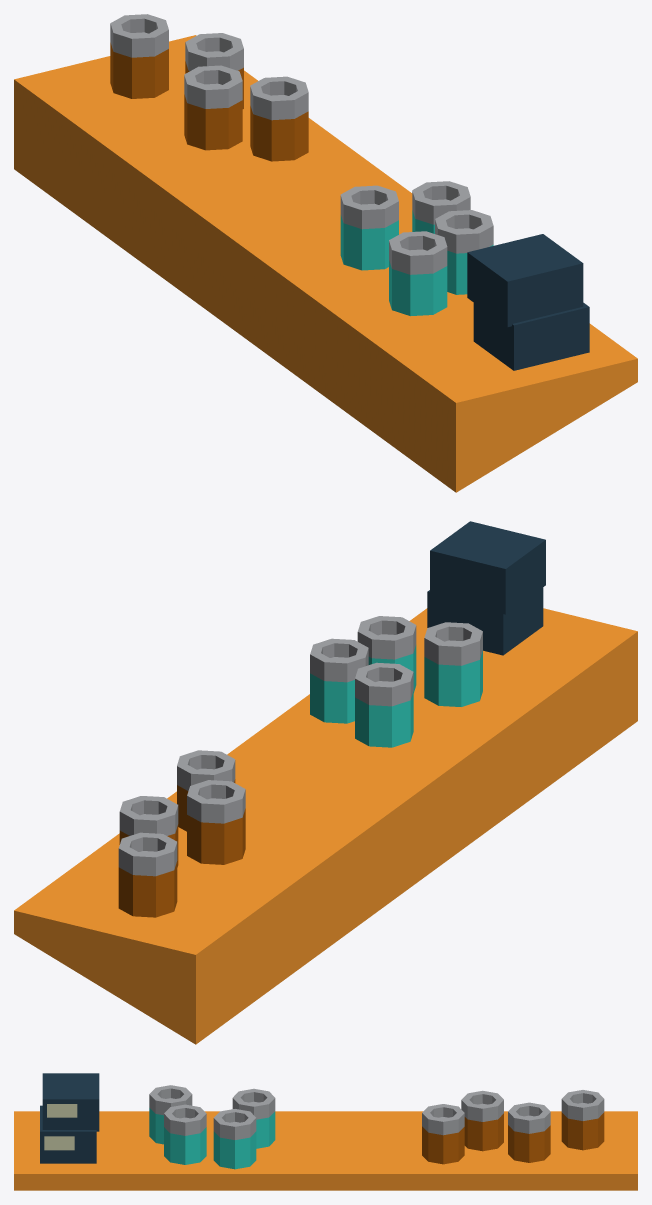
Rendered from Stand2.fbx.
The picture shows the model from 3 angles, top to bottom: view 1: azimuth 30°, elevation 25°; view 2: azimuth 150°, elevation 25°; view 3: azimuth 270°, elevation 25°; orthographic projection. The views are drawn at different scales.
Visible parts, largest first — view 1: Cube.008_157, Cube.036_179, Cube.035_178, Circle.044_167, Circle.045_168, Circle.037_160, Circle.047_170, Circle.038_161, Circle.036_159, Circle.039_162, Circle.046_169; view 2: Cube.008_157, Cube.036_179, Circle.047_170, Circle.037_160, Circle.038_161, Circle.045_168, Circle.039_162, Cube.035_178, Circle.036_159, Circle.046_169, Circle.044_167; view 3: Cube.008_157, Cube.036_179, Circle.039_162, Circle.047_170, Circle.046_169, Circle.036_159, Circle.044_167, Circle.045_168, Cube.035_178, Circle.038_161, Circle.037_160.
Part boxes in pixels (x1,y1,x2,y2): Cube.008_157: [14, 35, 637, 492]; Cube.036_179: [467, 234, 583, 327]; Cube.035_178: [473, 302, 589, 370]; Circle.044_167: [250, 76, 308, 161]; Circle.045_168: [184, 65, 242, 150]; Circle.037_160: [389, 231, 447, 316]; Circle.047_170: [110, 14, 168, 98]; Circle.038_161: [340, 185, 398, 270]; Circle.036_159: [435, 210, 493, 294]; Circle.039_162: [412, 181, 470, 233]; Circle.046_169: [185, 33, 243, 108]; Cube.008_157: [14, 608, 637, 1044]; Cube.036_179: [430, 521, 545, 614]; Circle.047_170: [118, 832, 177, 917]; Circle.037_160: [424, 622, 482, 706]; Circle.038_161: [355, 662, 413, 747]; Circle.045_168: [187, 780, 245, 864]; Circle.039_162: [310, 638, 368, 723]; Cube.035_178: [427, 587, 543, 655]; Circle.036_159: [357, 616, 416, 692]; Circle.046_169: [119, 796, 178, 867]; Circle.044_167: [177, 750, 235, 831]; Cube.008_157: [14, 1111, 637, 1190]; Cube.036_179: [42, 1073, 99, 1131]; Circle.039_162: [213, 1109, 256, 1169]; Circle.047_170: [561, 1090, 604, 1150]; Circle.046_169: [508, 1102, 550, 1162]; Circle.036_159: [164, 1104, 206, 1164]; Circle.044_167: [422, 1104, 464, 1164]; Circle.045_168: [461, 1090, 503, 1151]; Cube.035_178: [40, 1105, 96, 1163]; Circle.038_161: [232, 1088, 275, 1148]; Circle.037_160: [149, 1085, 192, 1144].
Bounding box in the file's own units: 16.22 × 15.23 × 68.29.
